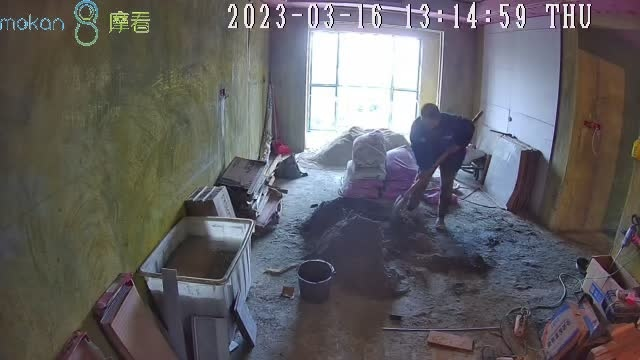people: (409, 103, 476, 231)
window: (310, 31, 421, 136)
